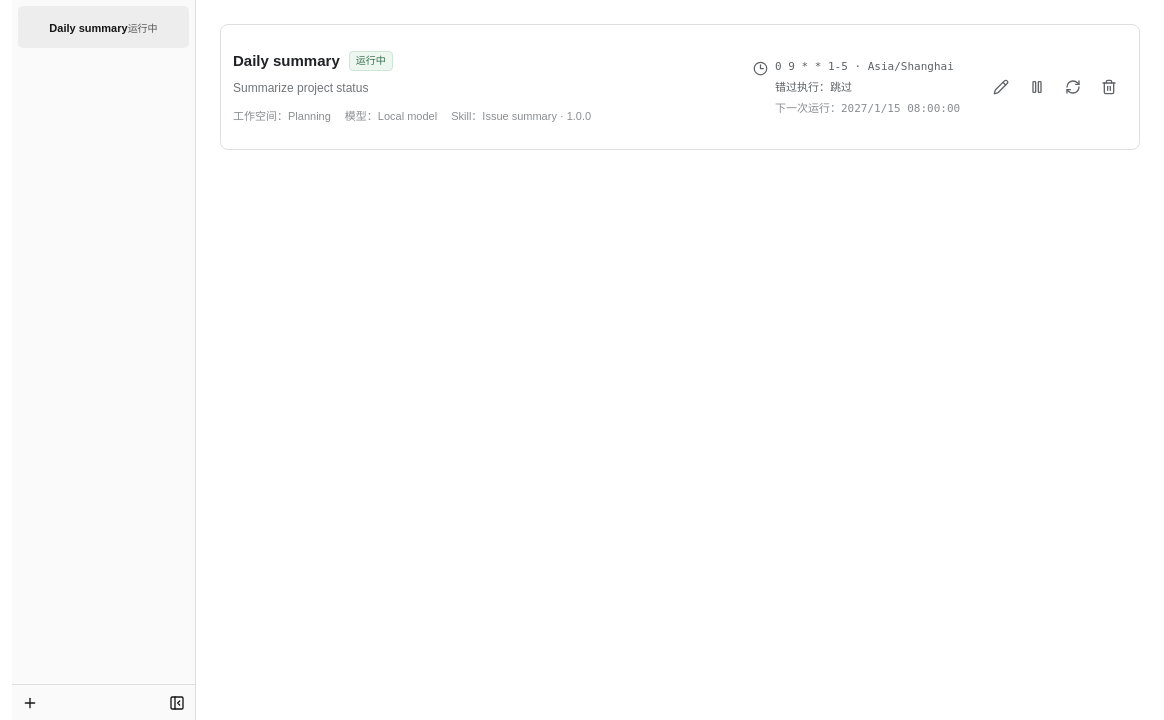
Test: SchedulePage › keeps the last successful list and toasts a safe update failure
Check: the heading "Daily summary" is shown, box [233,52,340,69]
Click the button named "暂停 Daily summary".
click(1037, 87)  # box [1023,71,1051,103]
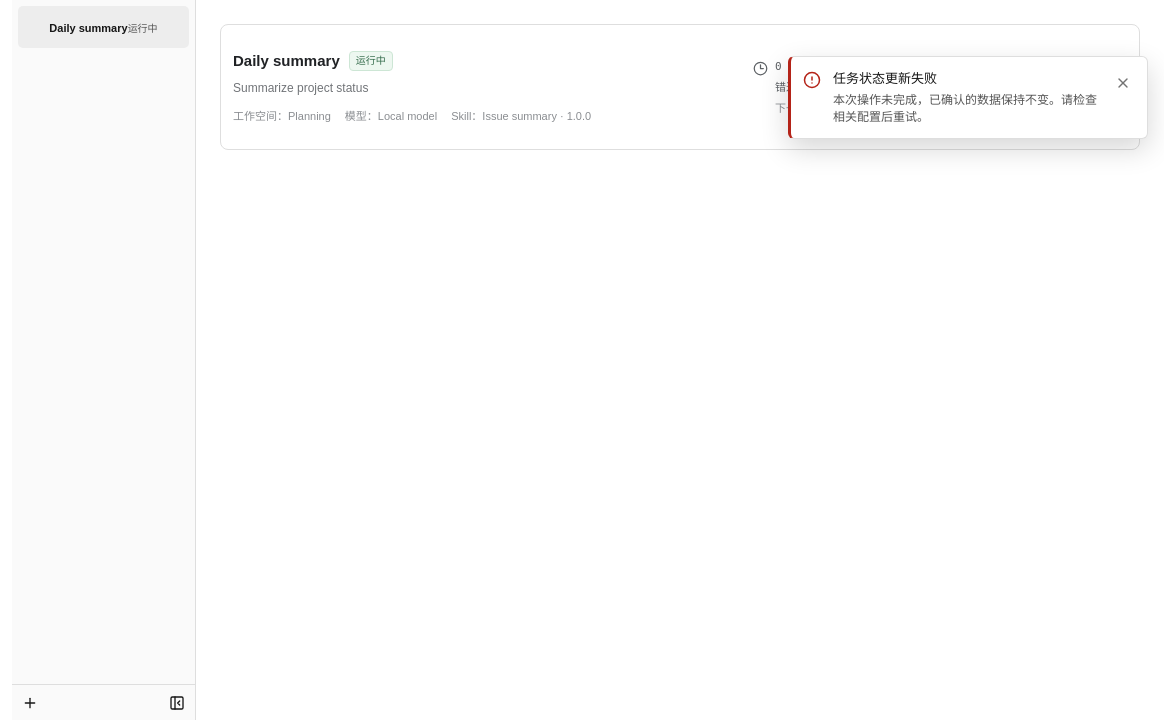
Check: the message does not show "/Users/private/schedules.db", box [788,56,1148,139]
Check: the message shows "任务状态更新失败", box [833,71,937,86]
